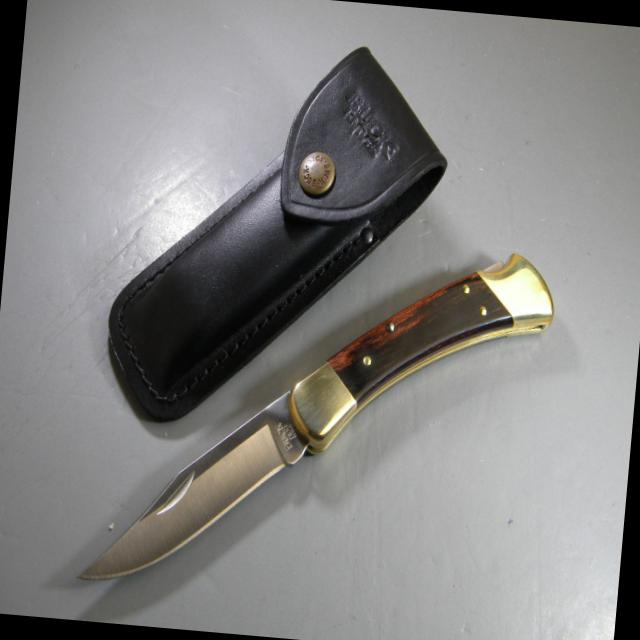knife: (68, 358, 334, 608)
